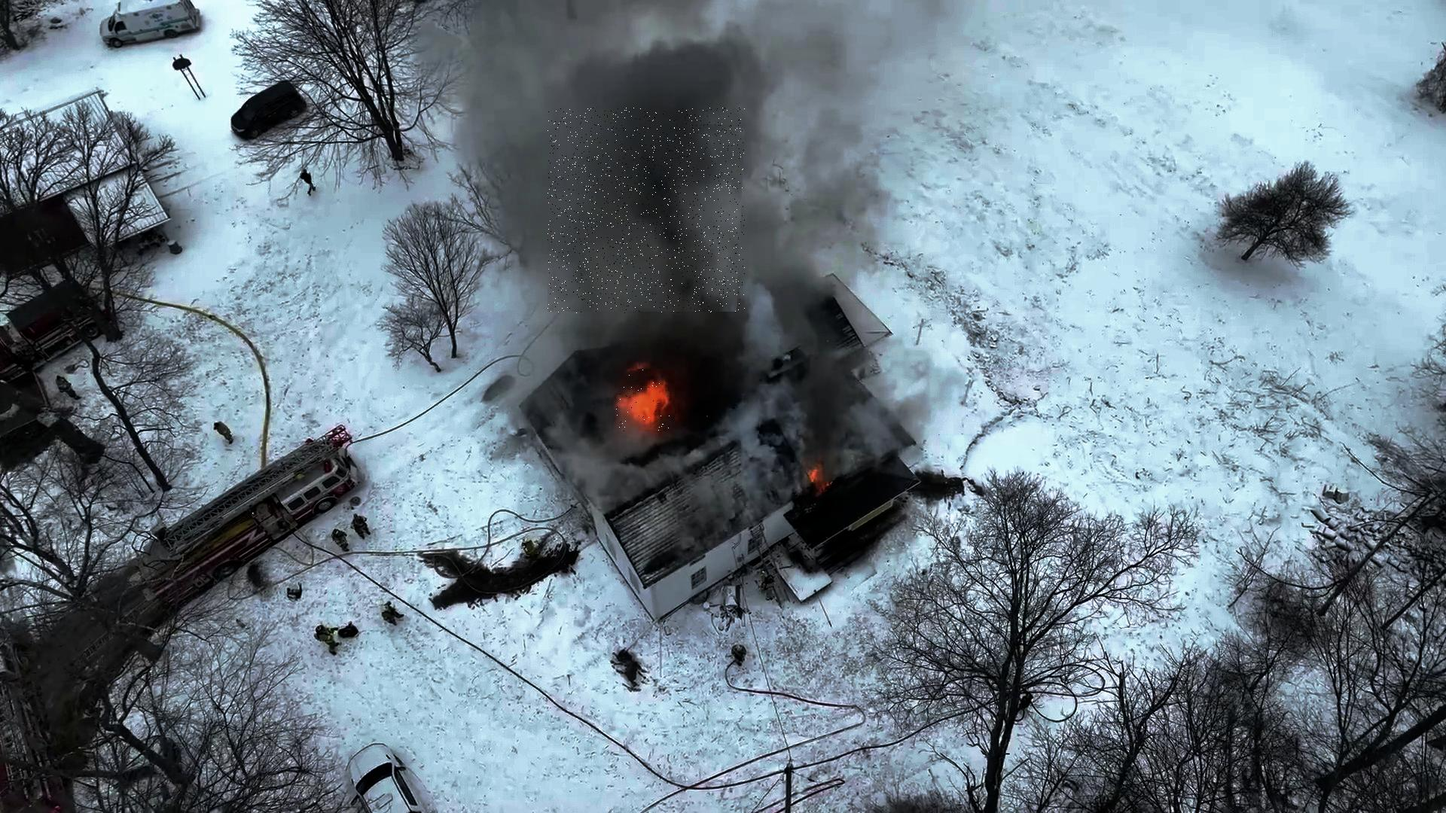fire: (614, 369, 677, 432)
smoke: (548, 108, 745, 314)
